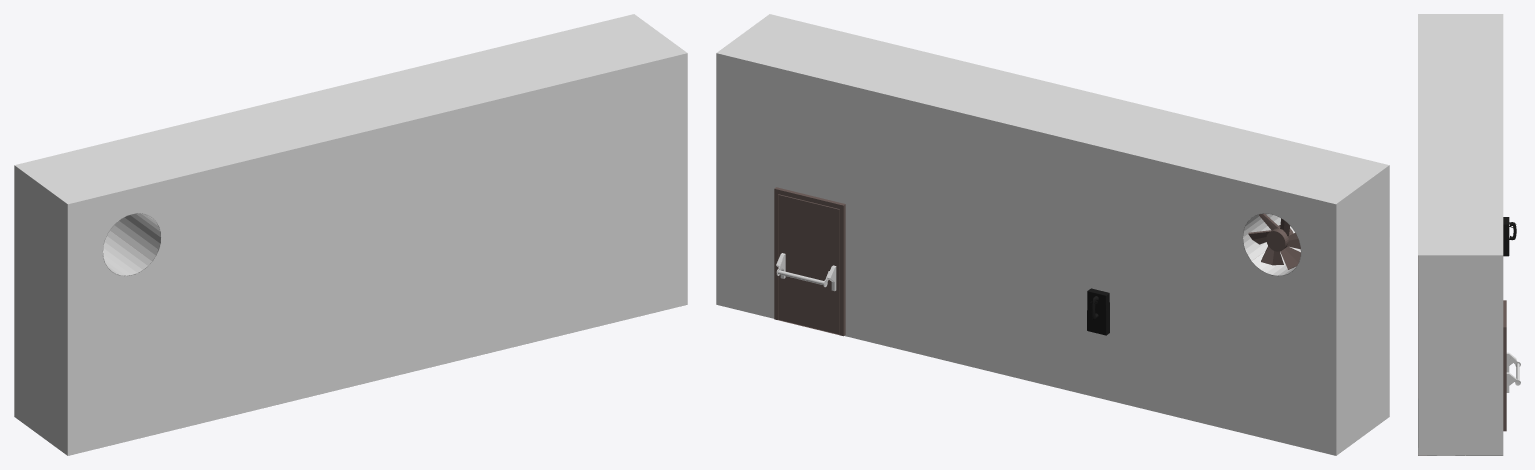
Rendered from DooredWall.fbx.
The picture shows the model from 3 angles, left to right: view 1: azimuth 30°, elevation 25°; view 2: azimuth 150°, elevation 25°; view 3: azimuth 270°, elevation 25°; orthographic projection. The views are drawn at different scales.
Visible parts, largest first — view 1: Wall.005; view 2: Wall.005; view 3: Wall.005.
Boxes of the visible parts, left/top/right/bottom form: Wall.005: left=14, top=14, right=687, bottom=455; Wall.005: left=716, top=14, right=1389, bottom=455; Wall.005: left=1418, top=14, right=1520, bottom=455.
Bounding box in the file's own units: 825 × 320 × 149.
